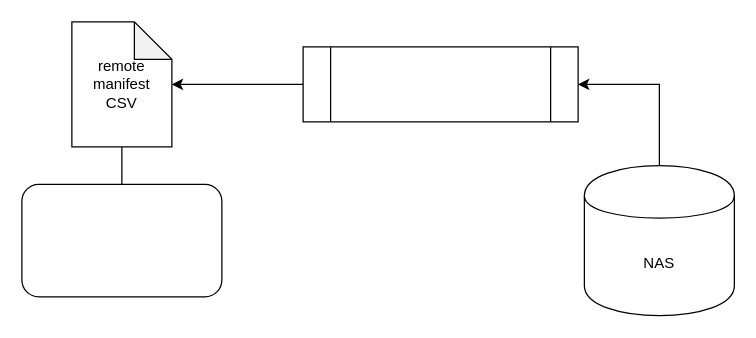
This 756x338 diagram has some shape labels left out. The shapes that lost their labels are listed below. From the top down, each one's centre as x and y in pixels, then its label:
At (440,84): "Build Remote File Manifest `rclone lsjson -R --files-only".
At (121,240): "Local (Offline)".
